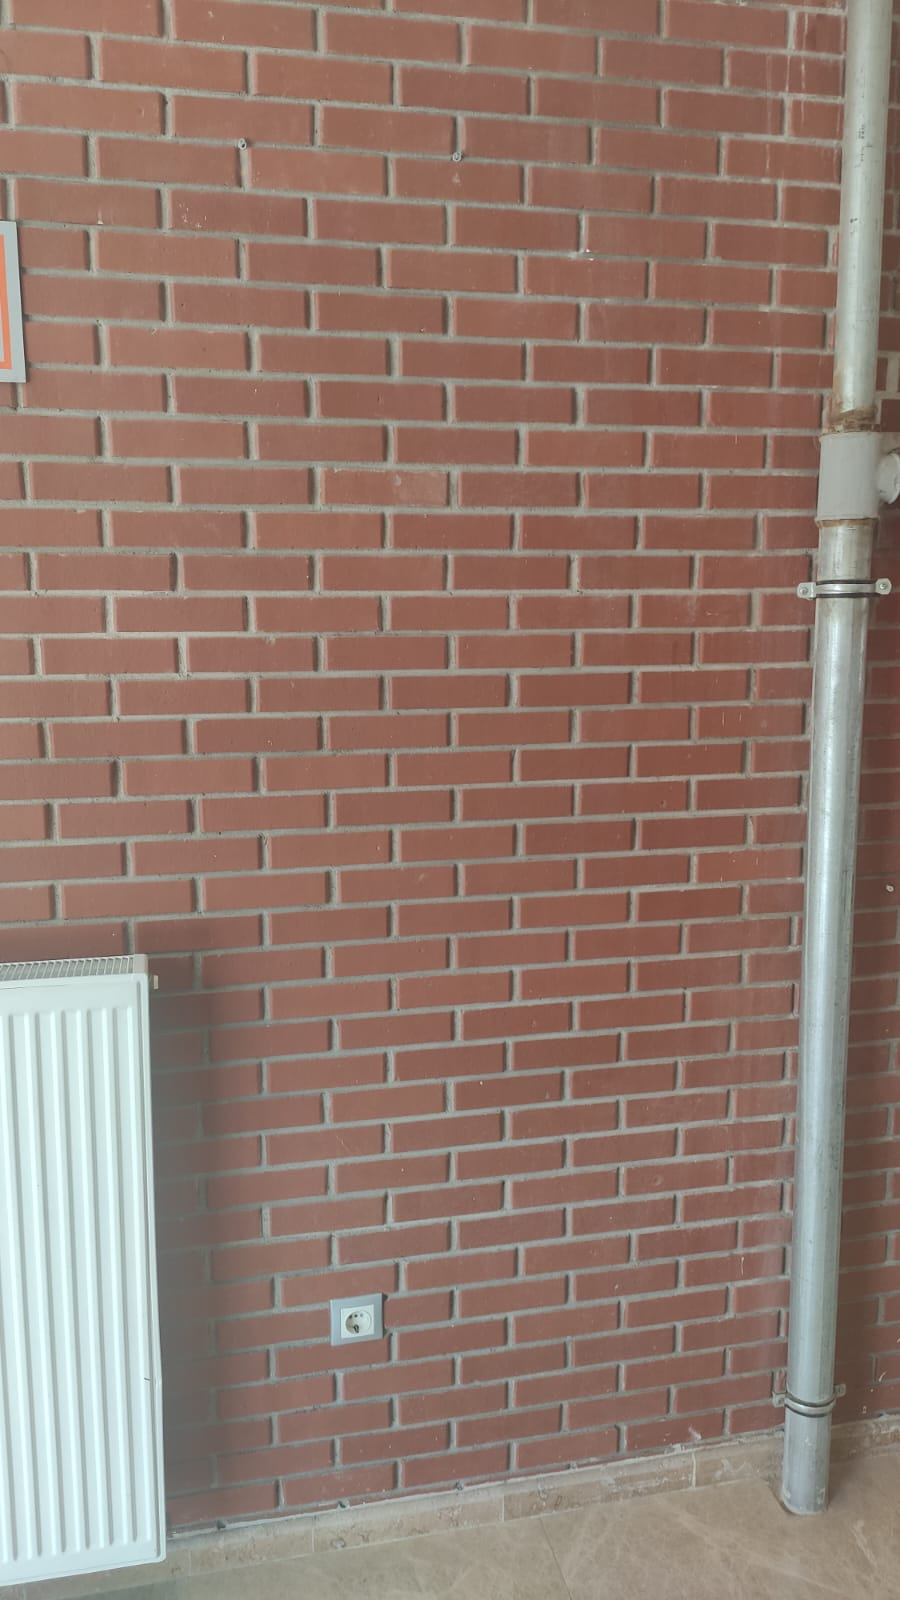redbrick: (144, 263, 308, 331), (563, 200, 715, 269), (95, 311, 247, 377), (78, 219, 238, 280), (234, 48, 399, 107), (370, 232, 519, 295), (519, 69, 659, 127), (54, 792, 199, 845), (120, 905, 266, 957), (196, 1090, 327, 1135), (505, 887, 634, 932), (552, 1321, 679, 1366), (323, 937, 455, 980), (632, 813, 754, 857), (385, 1108, 505, 1152), (385, 1040, 505, 1081), (669, 1244, 790, 1285), (390, 827, 525, 864), (273, 1259, 402, 1297), (215, 1309, 333, 1349), (509, 964, 632, 1001), (391, 747, 513, 785), (616, 1023, 735, 1060), (387, 1187, 505, 1223), (329, 1362, 455, 1395), (620, 1090, 730, 1127), (516, 1238, 630, 1274), (736, 947, 805, 985), (727, 1015, 799, 1051), (731, 1152, 800, 1185), (742, 881, 805, 916), (387, 1292, 453, 1325)
